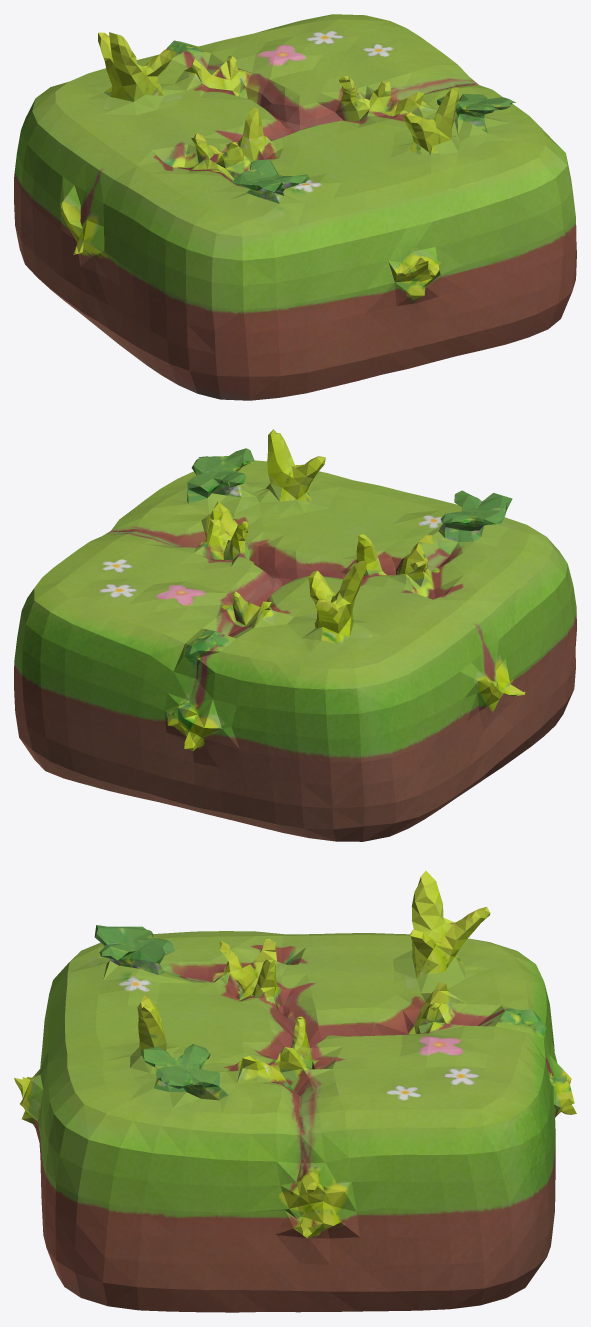
File: Stage_03_Ground_Grass_004.fbx
3 views of the same model, one above another, from view 1: azimuth 30°, elevation 25°; view 2: azimuth 150°, elevation 25°; view 3: azimuth 270°, elevation 25° (orthographic). The views are drawn at different scales.
Visible parts, largest first — view 1: Stage_03_Ground_Grass_004; view 2: Stage_03_Ground_Grass_004; view 3: Stage_03_Ground_Grass_004.
Boxes of the visible parts, x1,y1,x2,y2 form: Stage_03_Ground_Grass_004: (14, 14, 576, 400); Stage_03_Ground_Grass_004: (14, 429, 576, 841); Stage_03_Ground_Grass_004: (14, 870, 576, 1312).
Bounding box in the file's own units: 105 × 54.72 × 104.
